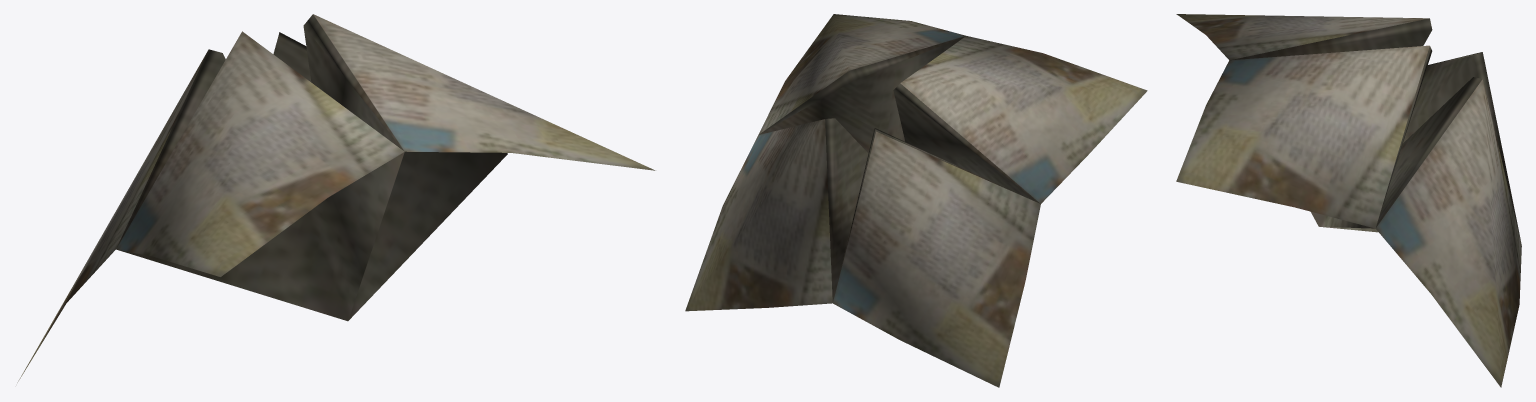
The model's file is paperStaff.glb.
3 views of the same model, side by side, from view 1: azimuth 30°, elevation 25°; view 2: azimuth 150°, elevation 25°; view 3: azimuth 270°, elevation 25° (orthographic). The views are drawn at different scales.
Parts seen in each view (by area): view 1: paperStaff; view 2: paperStaff; view 3: paperStaff.
Boxes of the visible parts, bbox=[...] form: paperStaff: bbox=[17, 14, 655, 382]; paperStaff: bbox=[685, 14, 1147, 387]; paperStaff: bbox=[1176, 14, 1521, 387].
Size of the model in its own units: 0.224 by 0.1695 by 0.1952.
Materials: 1 (1 with a texture image).
